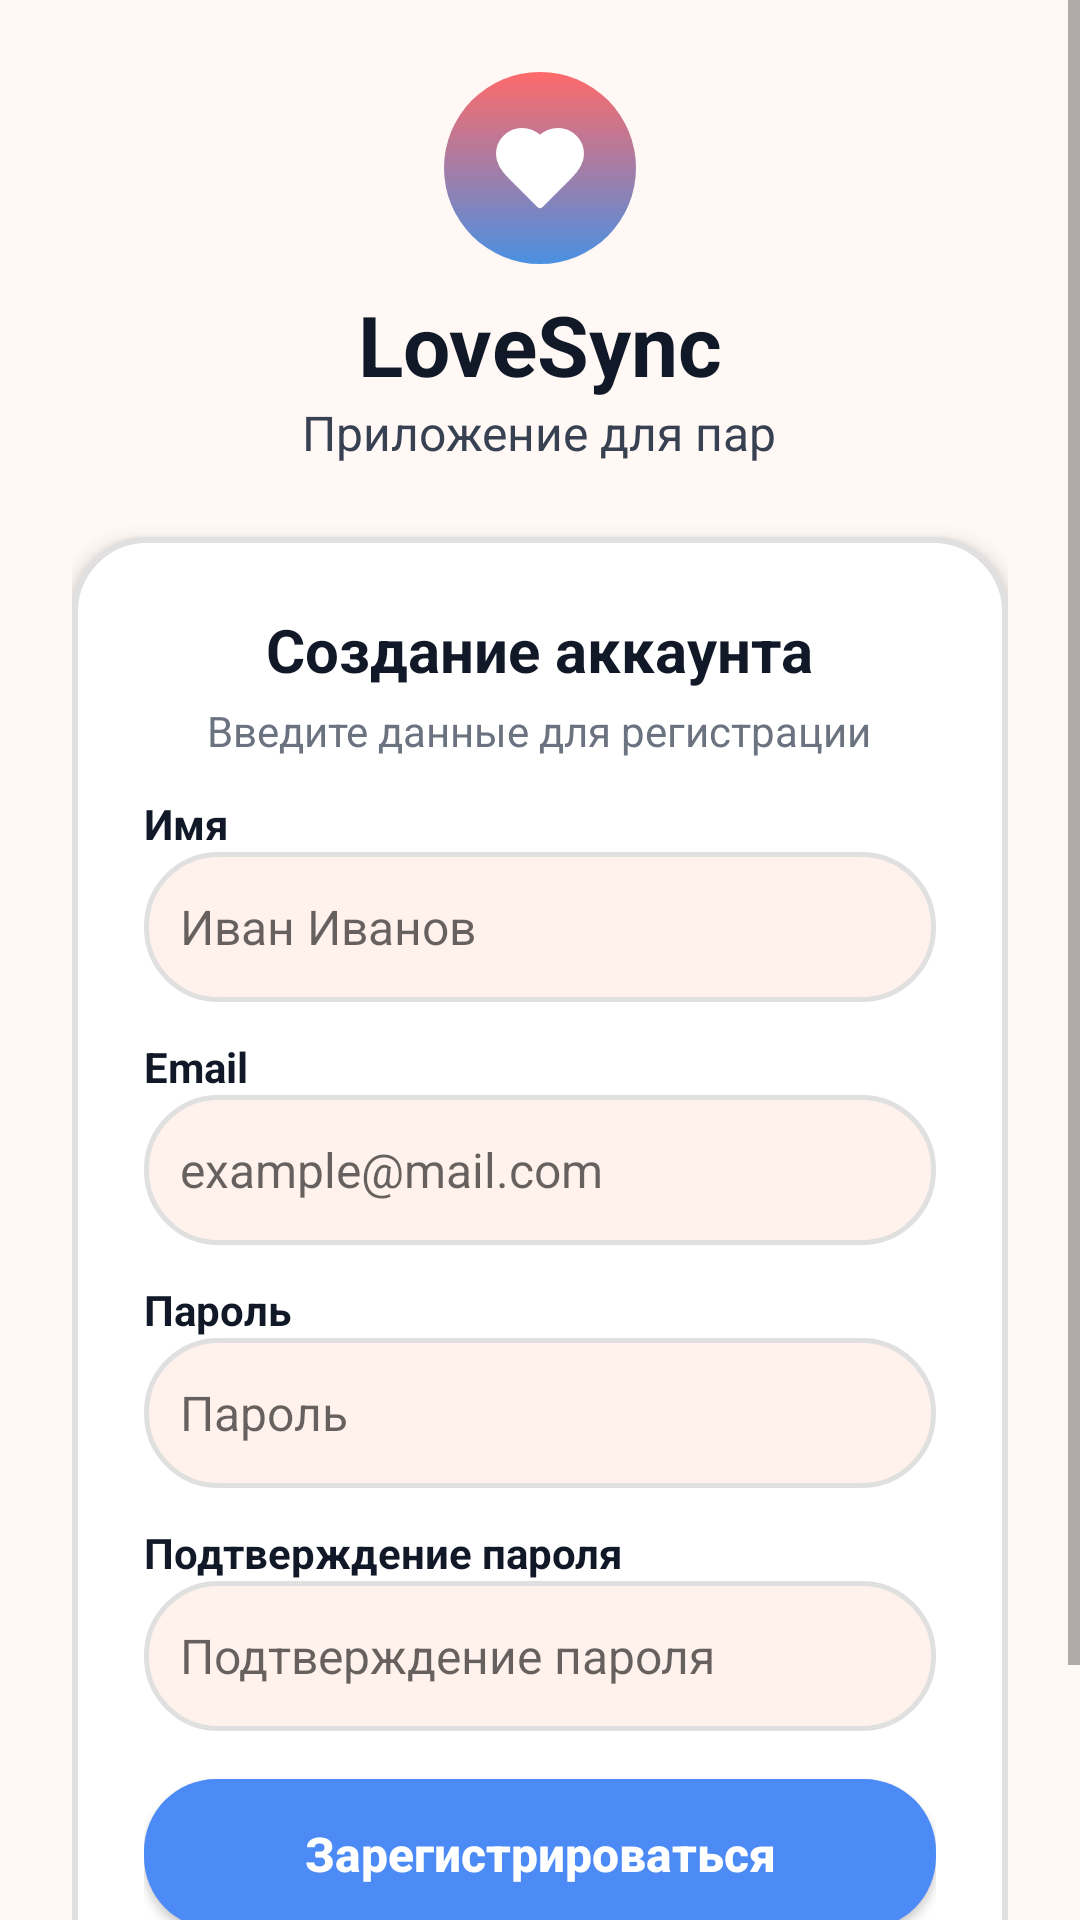

Icons on this 1080px x 1920px Android screen, each with the point to tap as point (x, y):
heart: point (540, 168)
